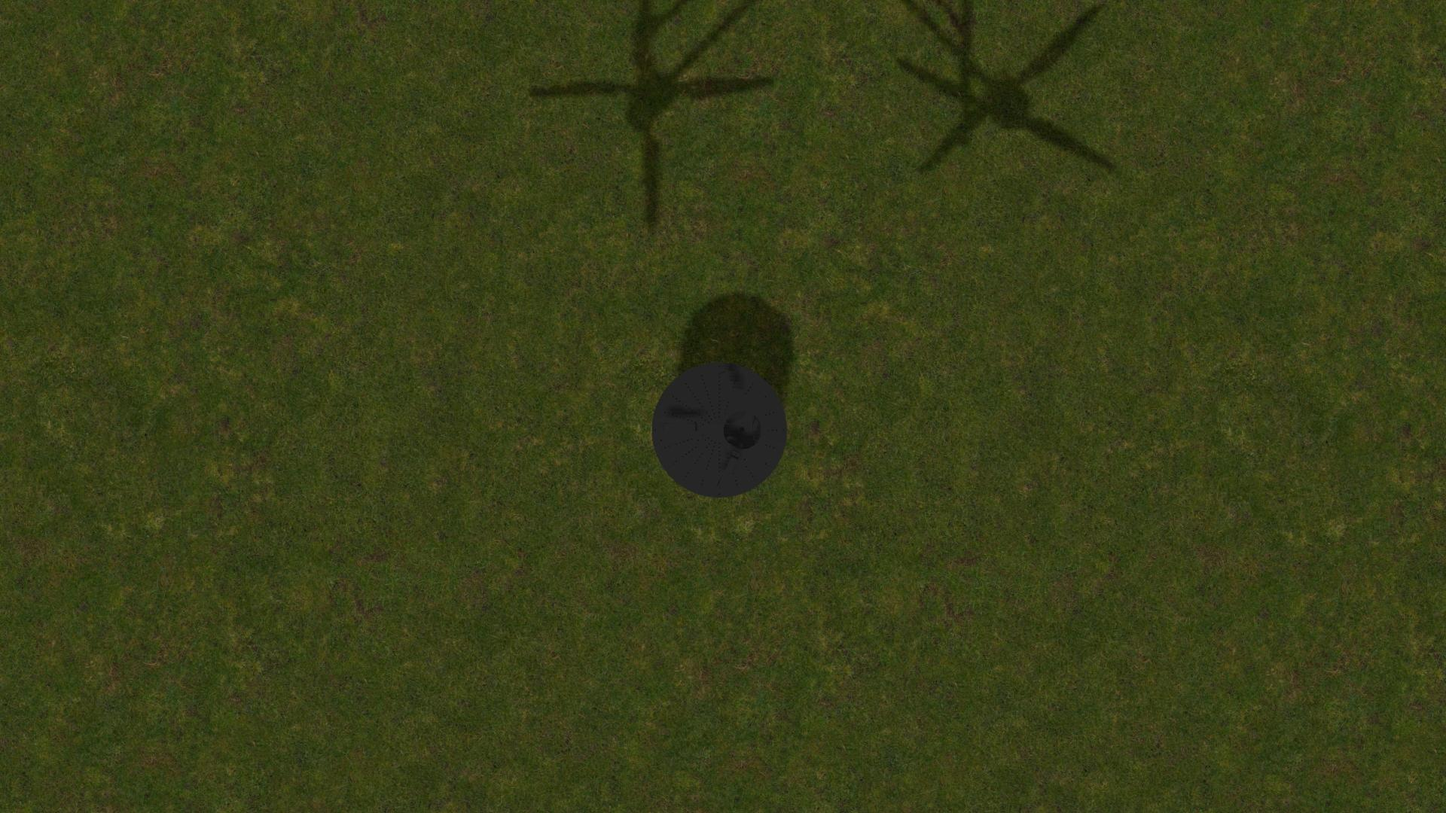alca: (716, 450, 740, 491), (717, 368, 740, 408), (658, 422, 701, 432)
armadilha: (652, 362, 787, 498)
